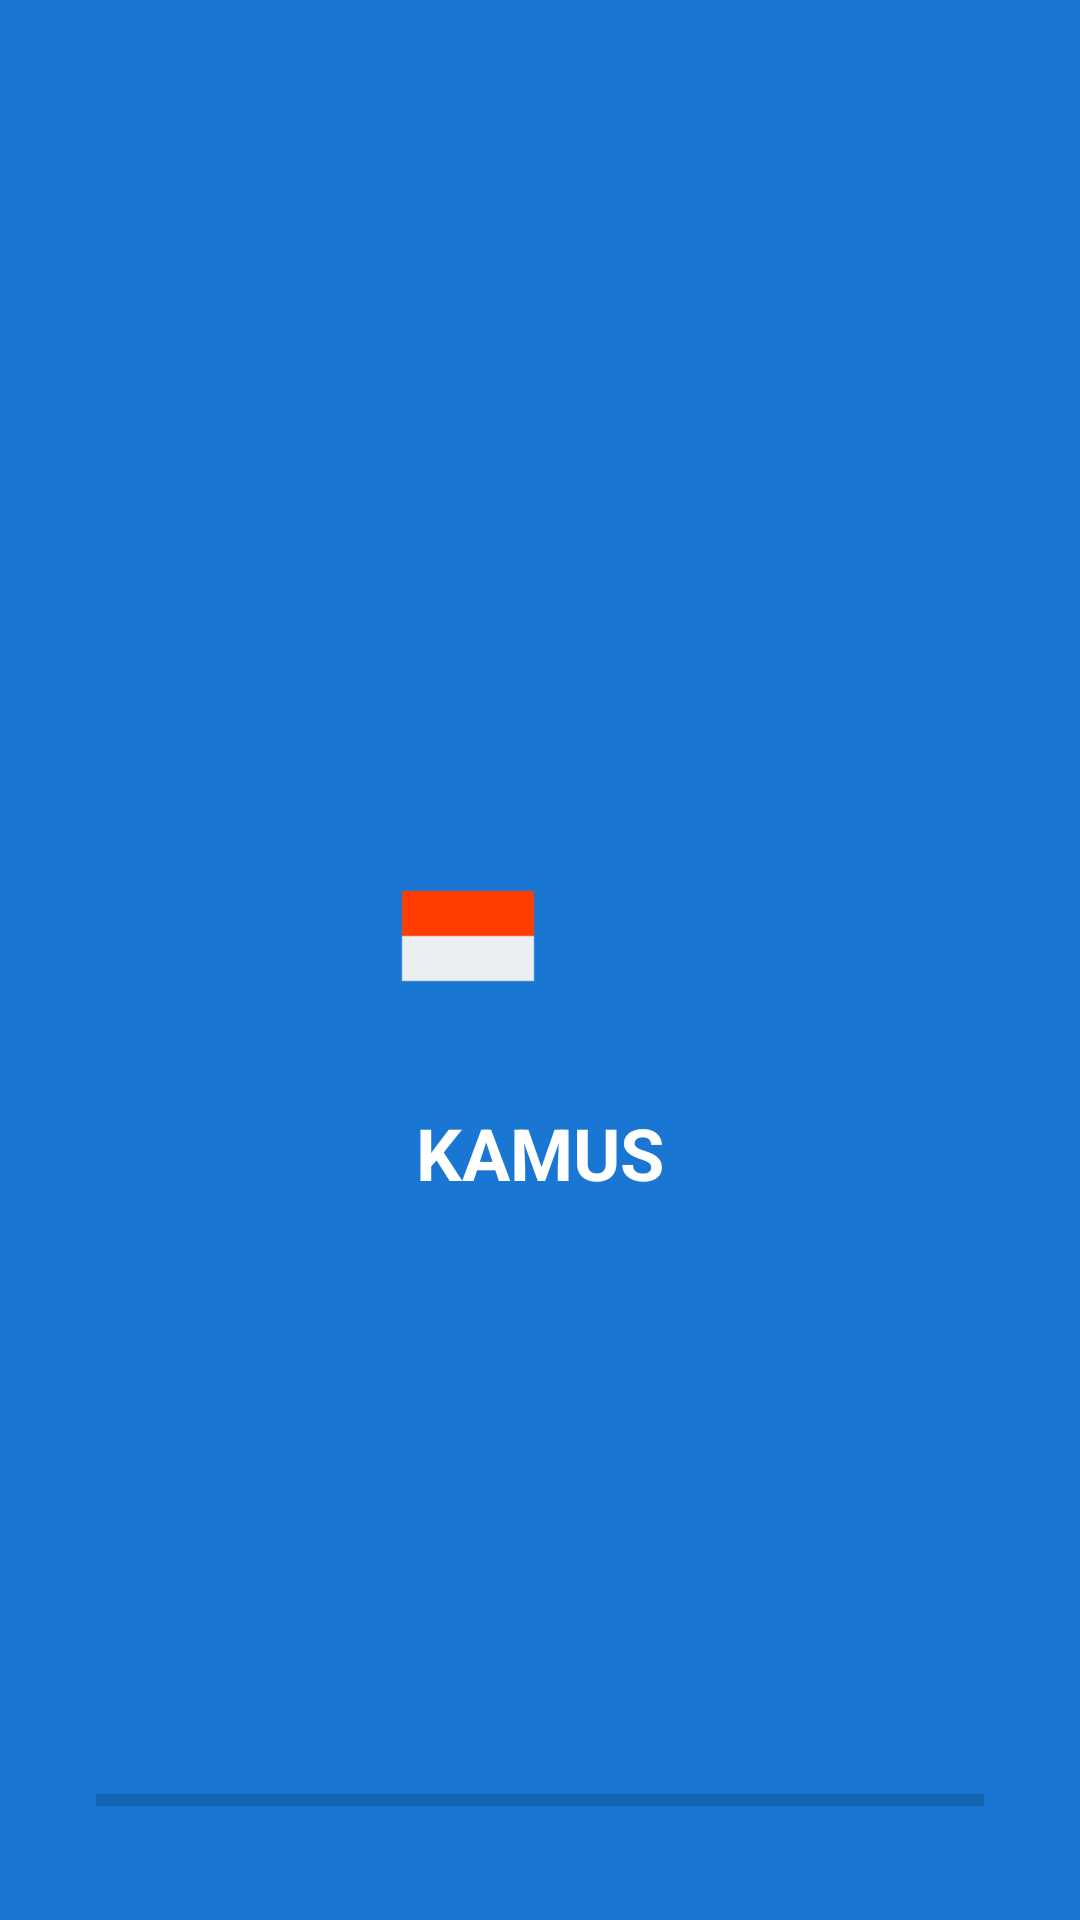

Icon bounding boxes for this 1080w x 1920h phone screenshot, format (x1, y1, x2, y2):
indonesia flag: (401, 890, 535, 982)
